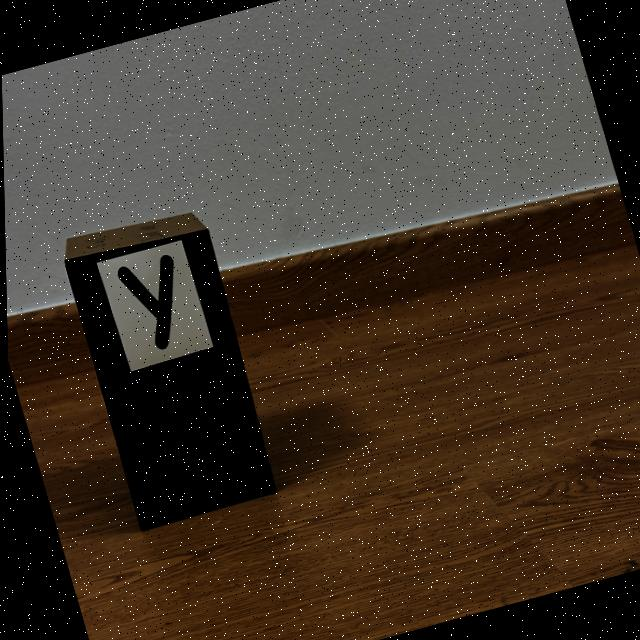Y: (116, 254, 172, 349)
